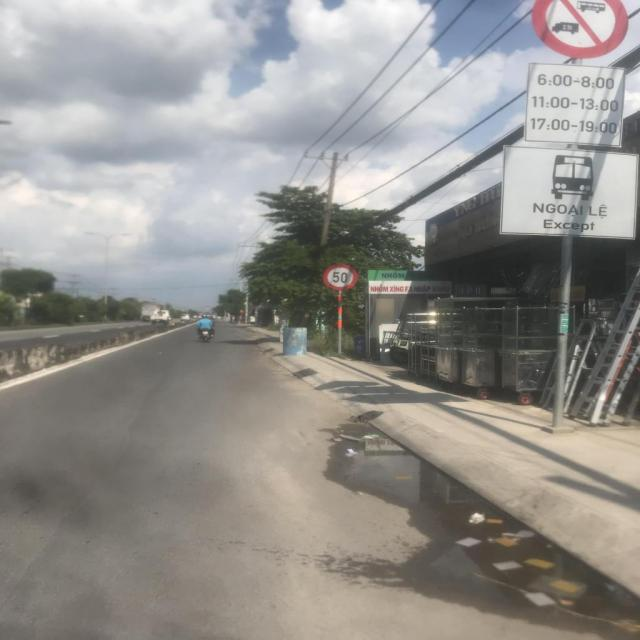cam_o_to_tai_va_xe_khach: (530, 0, 630, 59)
khac: (498, 144, 636, 239), (525, 60, 624, 146)
toc_do_toi_da_50: (321, 266, 358, 292)
